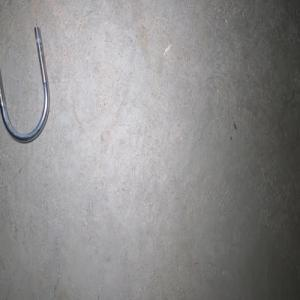ClampPart: (0, 24, 50, 144)
